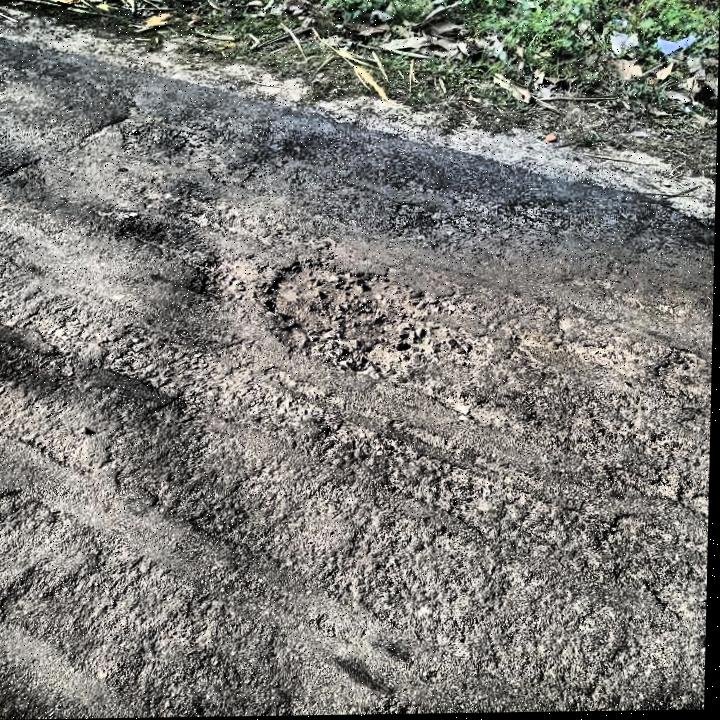pothole: (262, 253, 465, 386)
